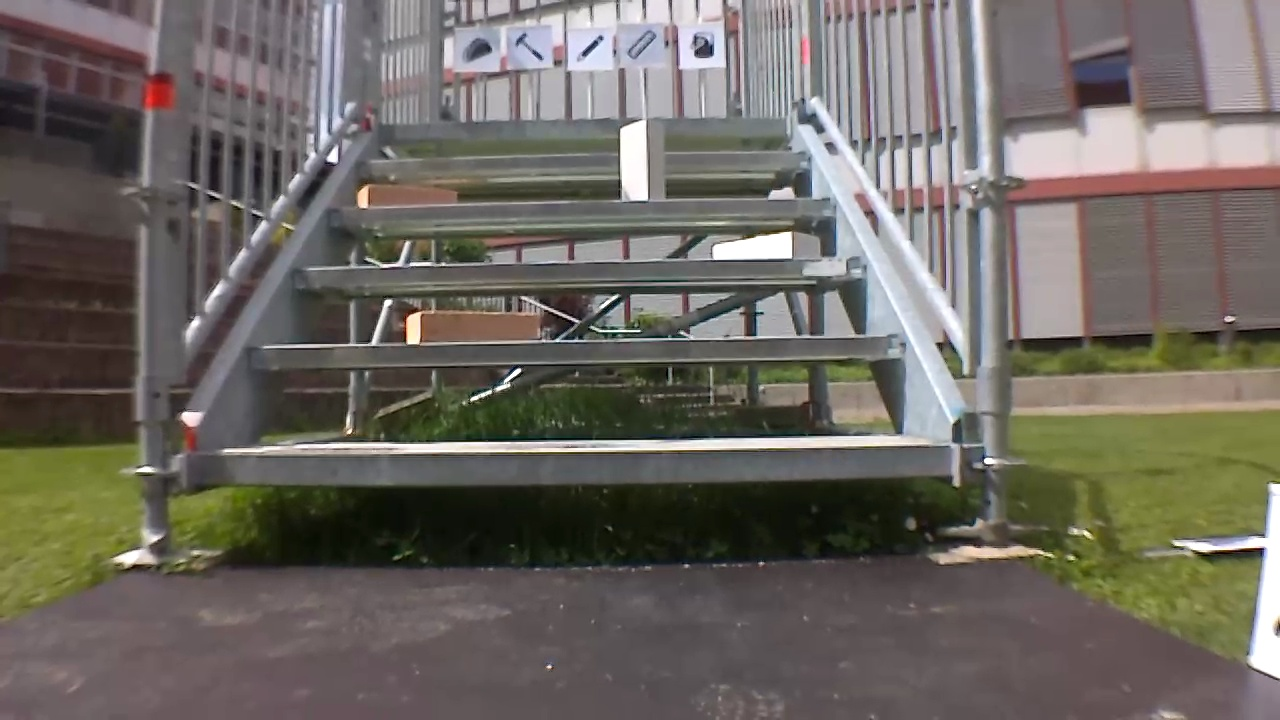brick: (404, 312, 537, 341), (620, 121, 665, 198), (713, 232, 821, 259), (356, 186, 456, 207)
bucket: (686, 29, 718, 59)
edge: (193, 443, 955, 484), (247, 335, 903, 363), (291, 257, 868, 284), (326, 196, 838, 219), (358, 150, 808, 174), (380, 117, 785, 140)
hammer: (509, 28, 549, 64)
pencil: (574, 30, 609, 64)
ruler: (620, 27, 660, 60)
stairs: (122, 1, 1033, 561)
steps: (180, 109, 970, 500)
taco: (457, 32, 495, 66)
